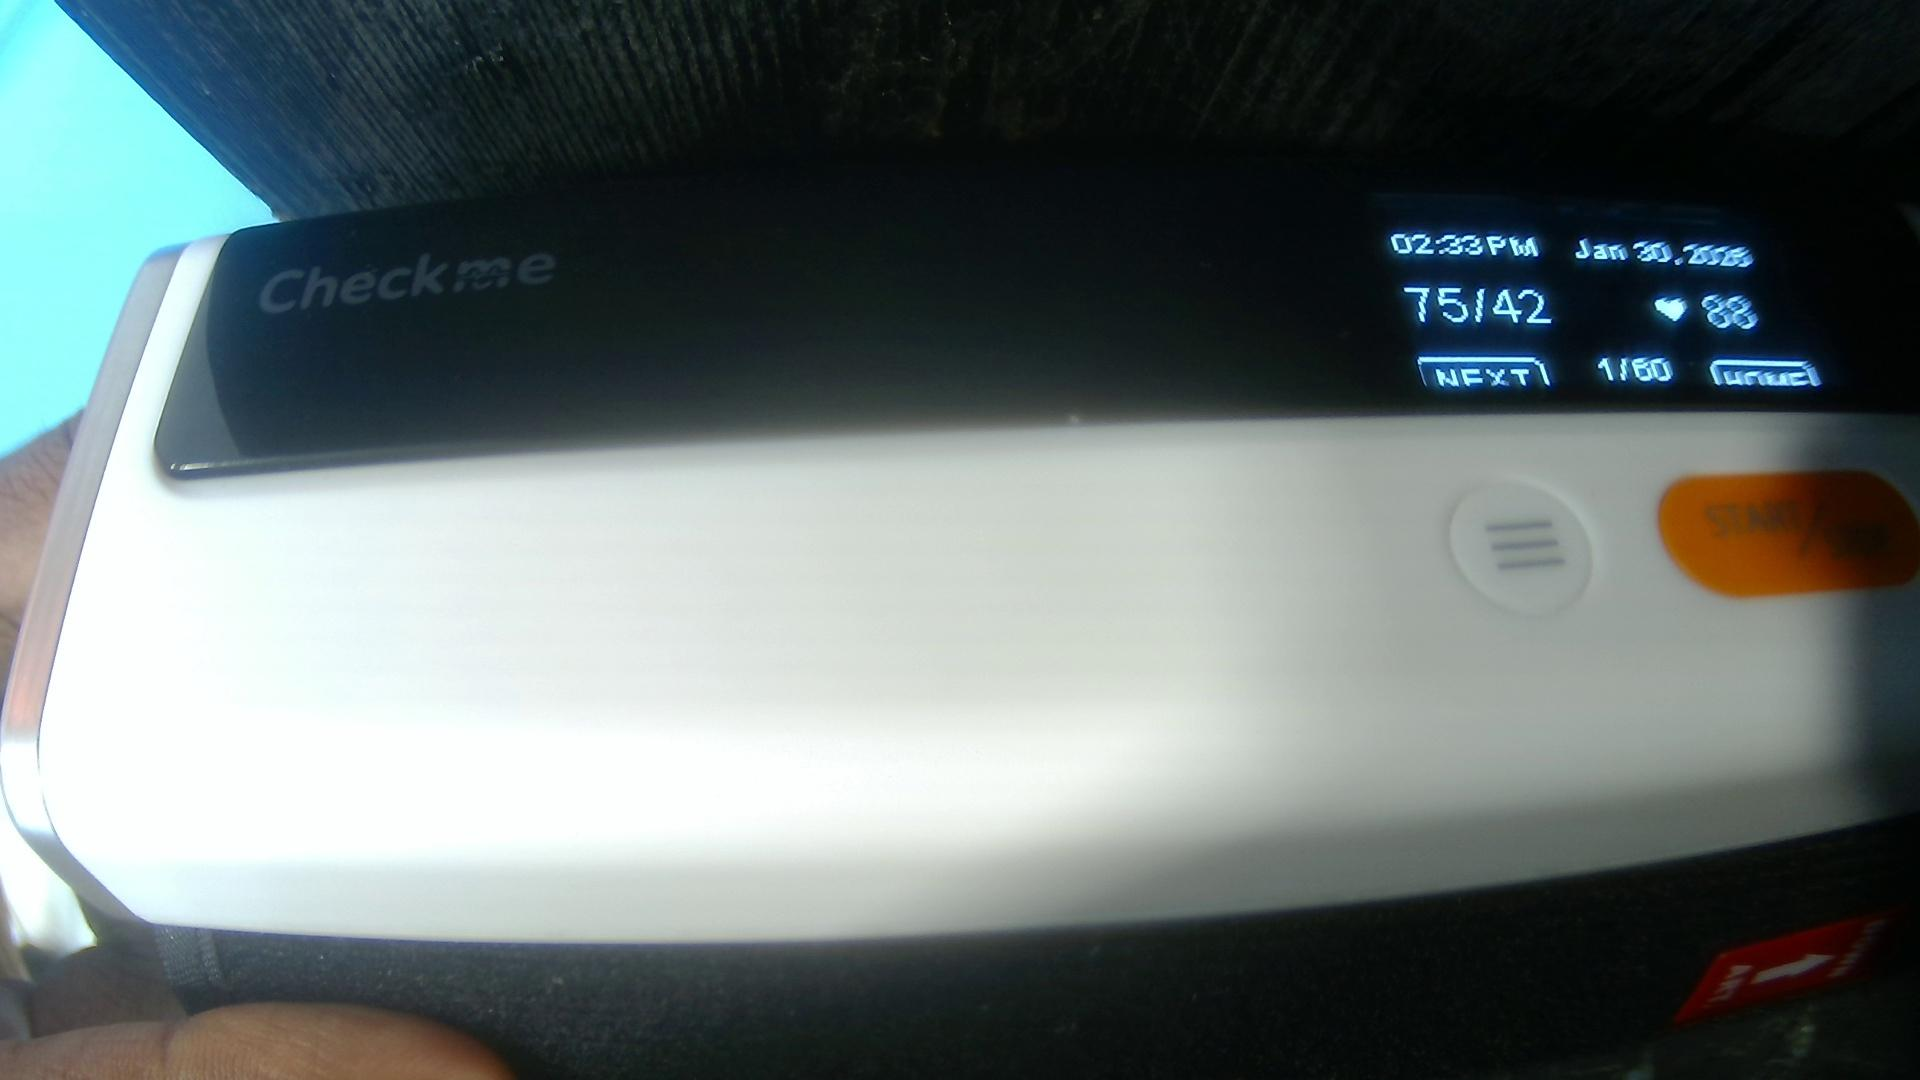DISPLAY: (180, 206, 1900, 474)
